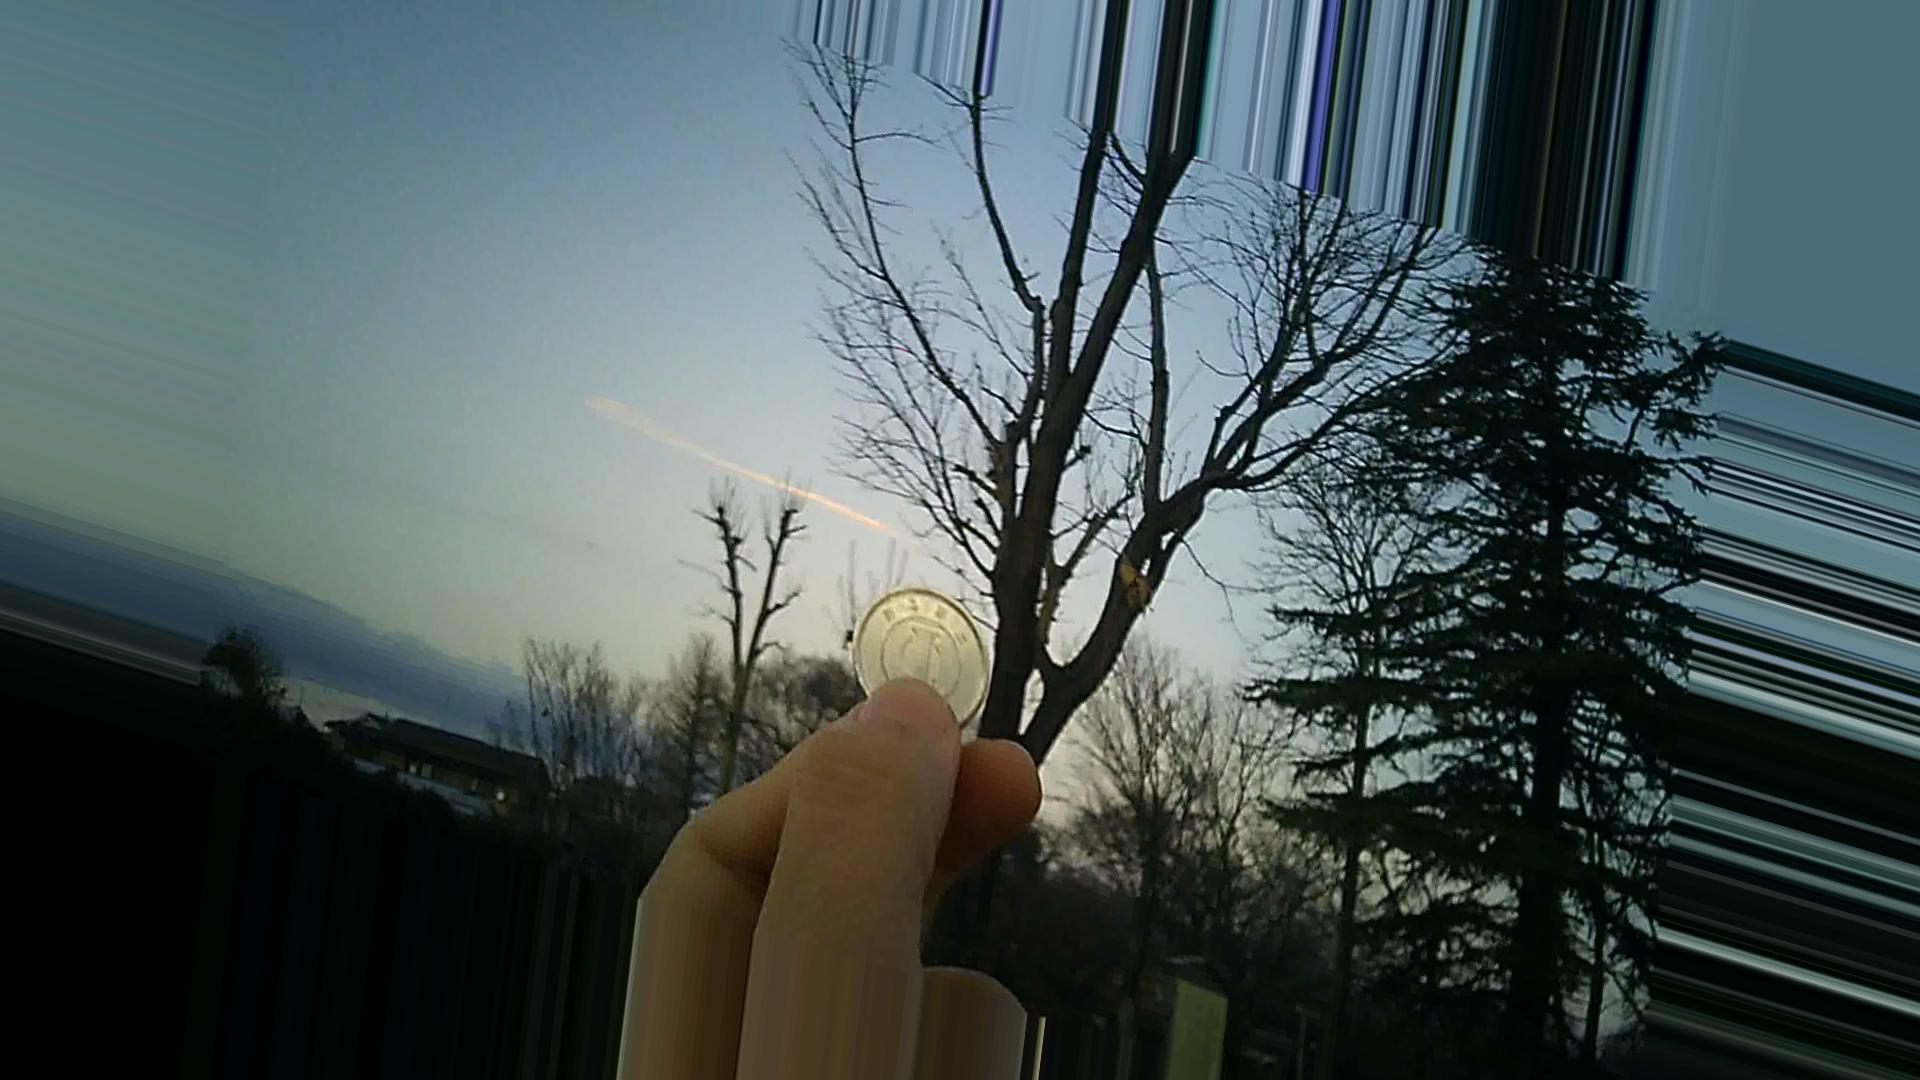1 Yen: (841, 579, 1001, 720)
